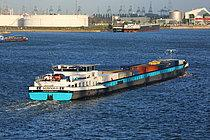Ship: (26, 45, 192, 108)
